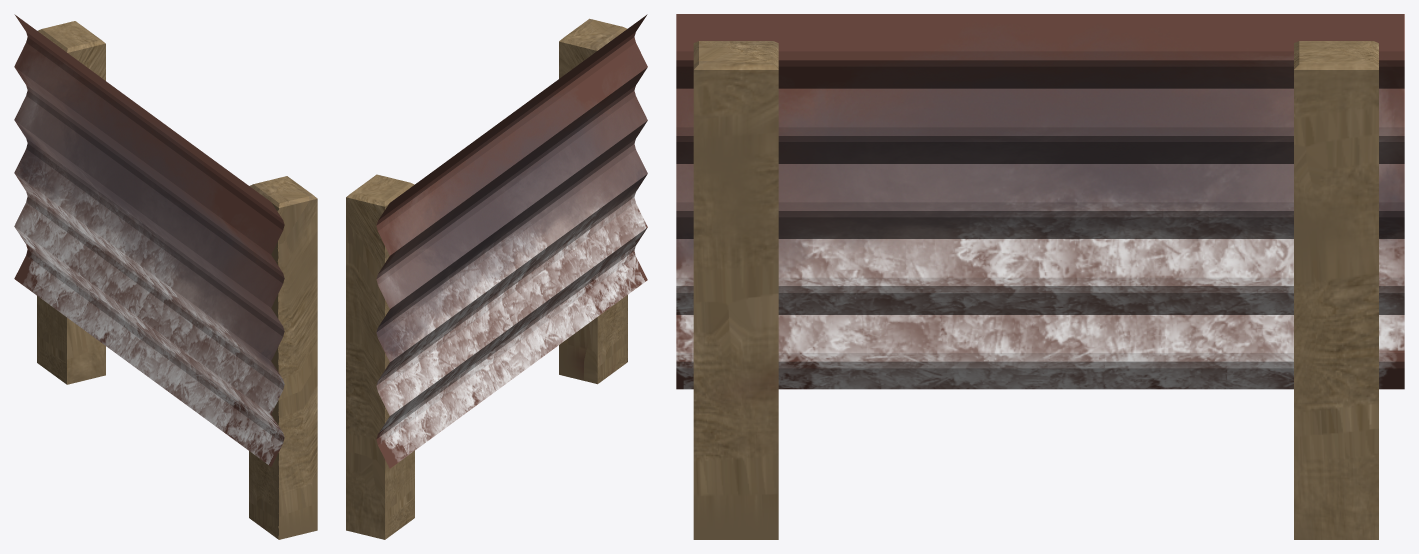
The model's file is MetalBarrier.fbx.
3 views of the same model, side by side, from view 1: azimuth 30°, elevation 25°; view 2: azimuth 150°, elevation 25°; view 3: azimuth 270°, elevation 25° (orthographic). The views are drawn at different scales.
Visible parts, largest first — view 1: MetalBarrier; view 2: MetalBarrier; view 3: MetalBarrier.
Boxes of the visible parts, left/top/right/bottom form: MetalBarrier: left=14, top=14, right=317, bottom=539; MetalBarrier: left=346, top=14, right=647, bottom=539; MetalBarrier: left=676, top=14, right=1404, bottom=539.
Bounding box in the file's own units: 24.52 × 154 × 207.
